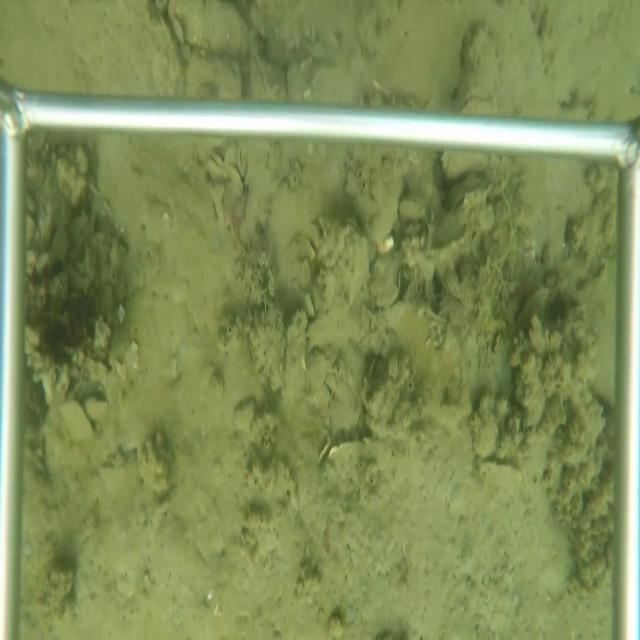Oyster-Closed: (369, 247, 403, 308), (398, 196, 426, 221)
Oyster-Indeterminate: (168, 2, 249, 59)
